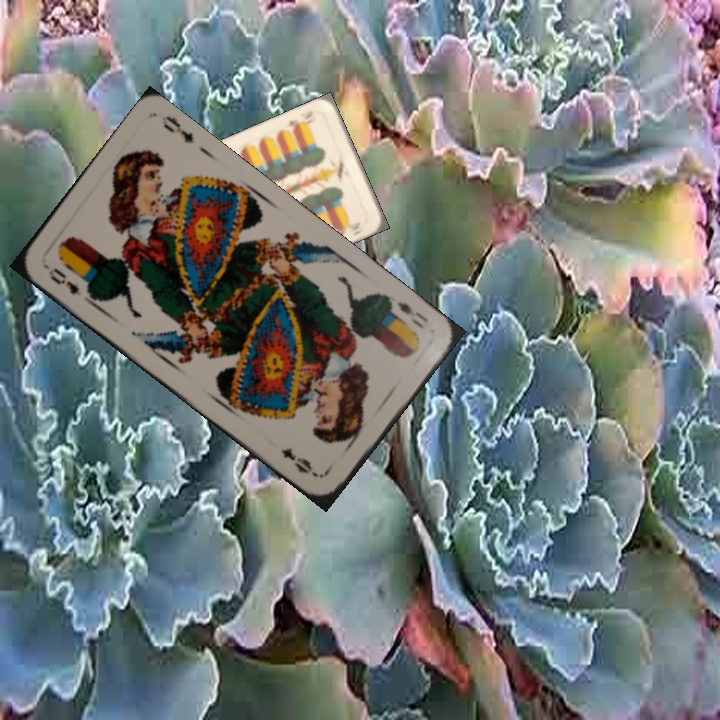E10: (283, 106, 316, 133)
EO: (41, 261, 94, 299), (393, 297, 431, 332)
